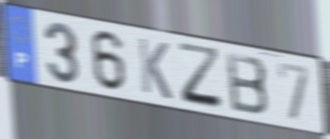3: (43, 21, 81, 85)
6: (89, 29, 127, 94)
7: (275, 60, 311, 124)
B: (224, 49, 271, 118)
K: (136, 35, 174, 102)
Z: (176, 40, 227, 113)
